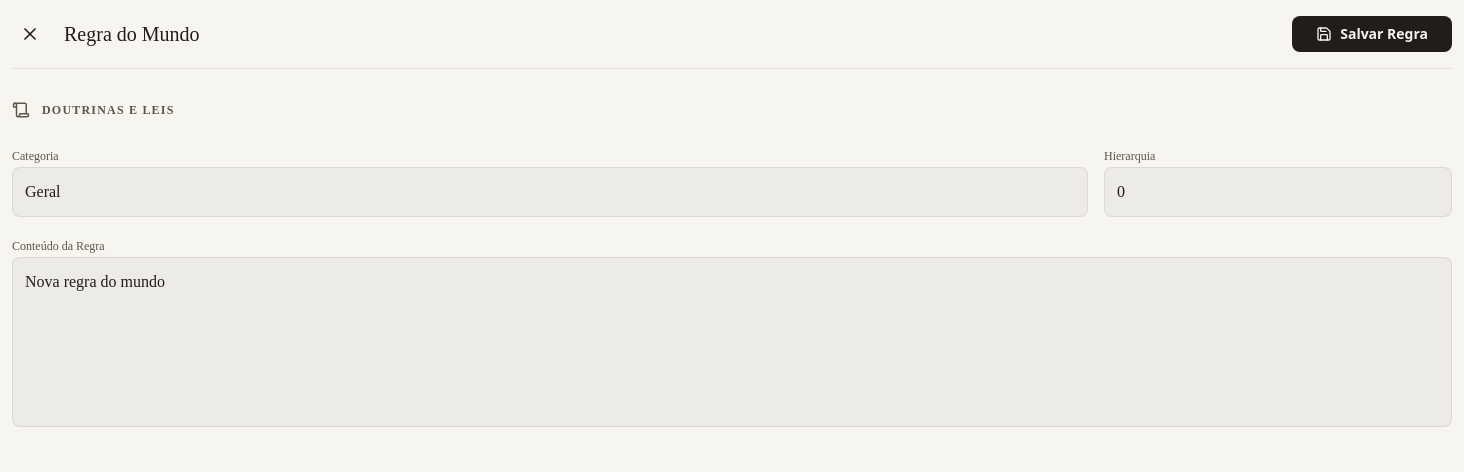
Test case: WorldRule Components › WorldRuleForm › should show error when content is empty
Clear the text box labelled "Conteúdo da Regra" at (732,342), box [12,257,1452,427]
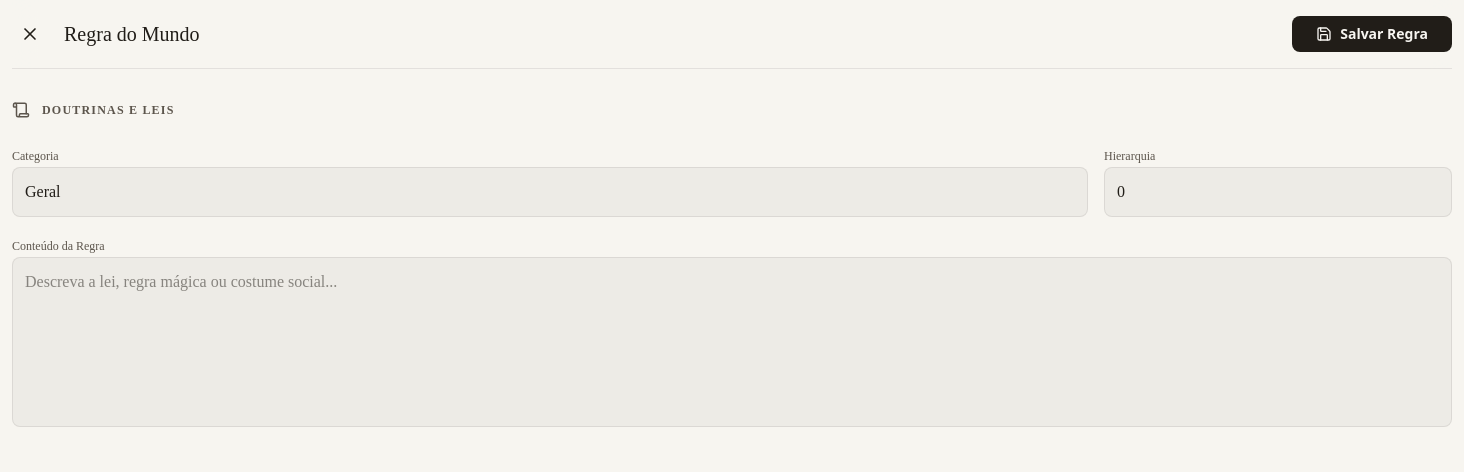
Click the button "Salvar Regra".
click(1372, 34)  # box [1292,16,1452,52]
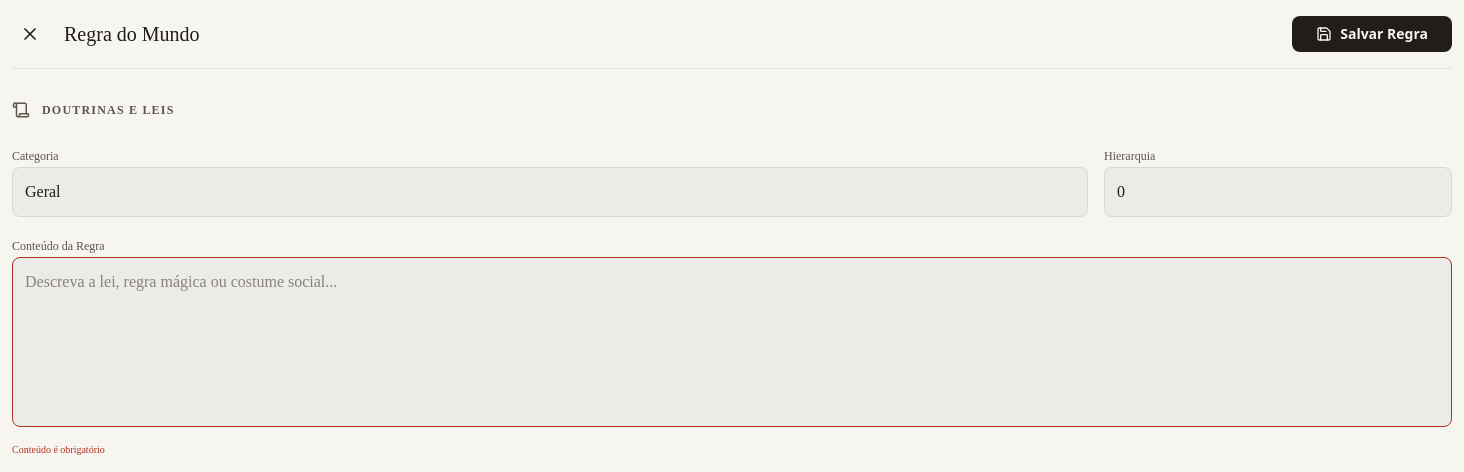
Now the text "Conteúdo é obrigatório" is shown, box [12,444,105,455]
